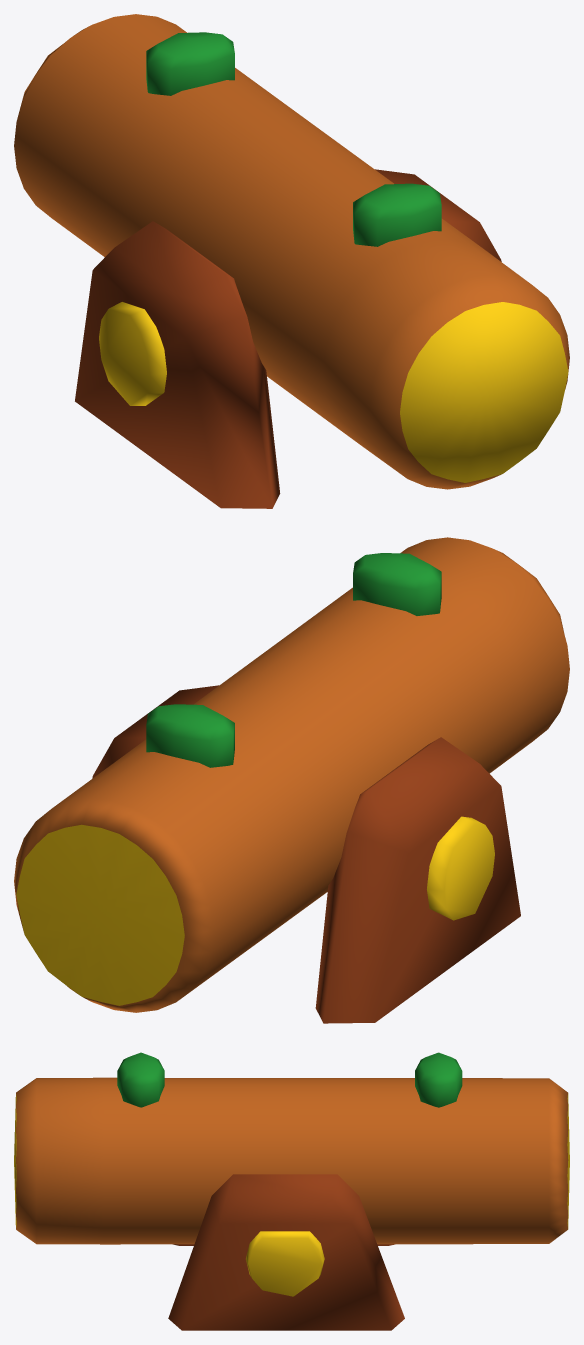
File: SwingWoodenLow.fbx
3 views of the same model, one above another, from view 1: azimuth 30°, elevation 25°; view 2: azimuth 150°, elevation 25°; view 3: azimuth 270°, elevation 25° (orthographic). The views are drawn at different scales.
Parts seen in each view (by area): view 1: SwingWooden4; view 2: SwingWooden4; view 3: SwingWooden4.
Boxes of the visible parts, left/top/right/bottom form: SwingWooden4: left=14, top=14, right=569, bottom=508; SwingWooden4: left=14, top=537, right=569, bottom=1023; SwingWooden4: left=14, top=1052, right=569, bottom=1330.
Bounding box in the file's own units: 2.63 × 2.22 × 5.1.
